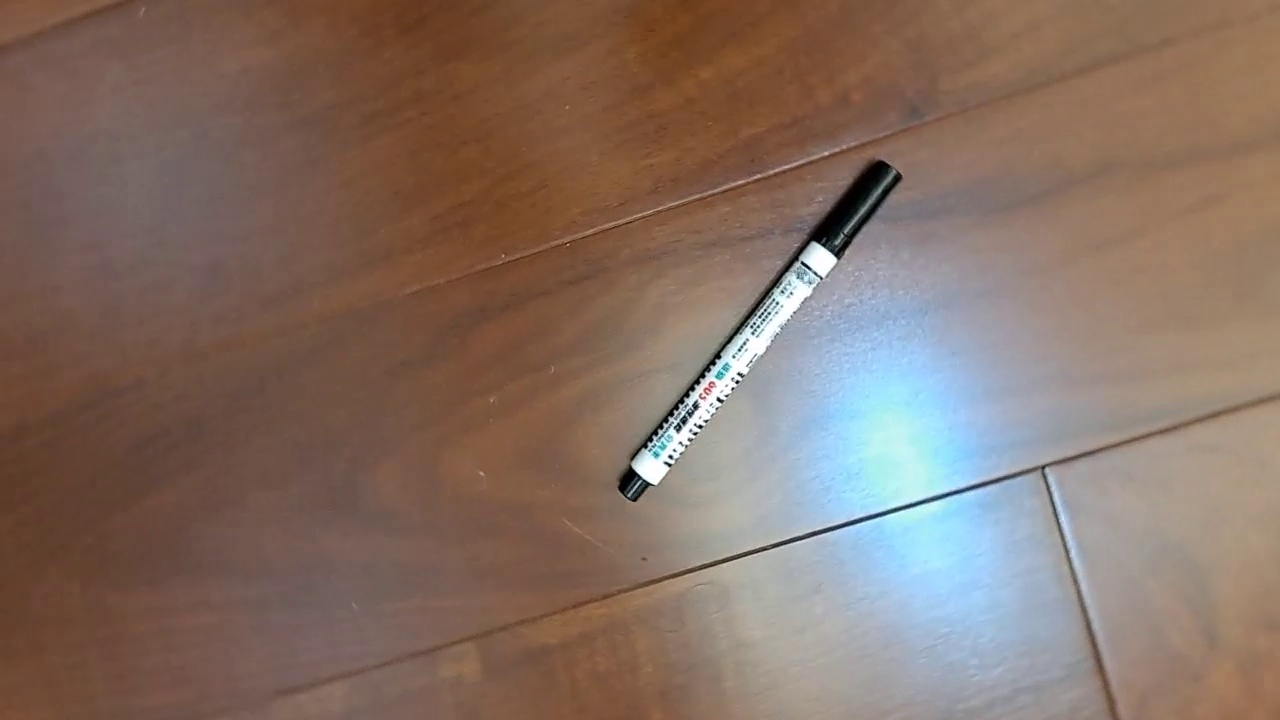pen: (616, 158, 904, 504)
